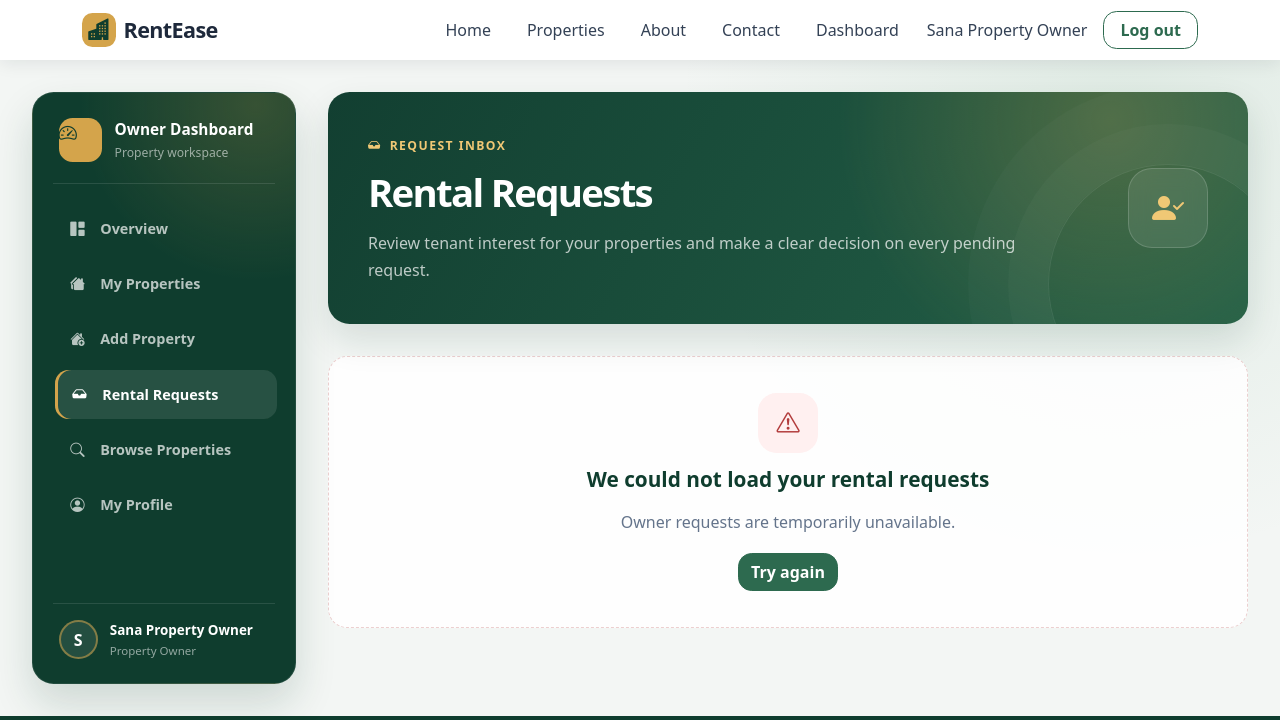
it: Owner rental requests page › shows a load error and retries the owner request query
expect the text "Owner requests are temporarily unavailable." is shown: met, box top-left (621, 509), bottom-right (955, 536)
Step 1. Click the button "Try again" → click(788, 572), box top-left (738, 553), bottom-right (838, 591)
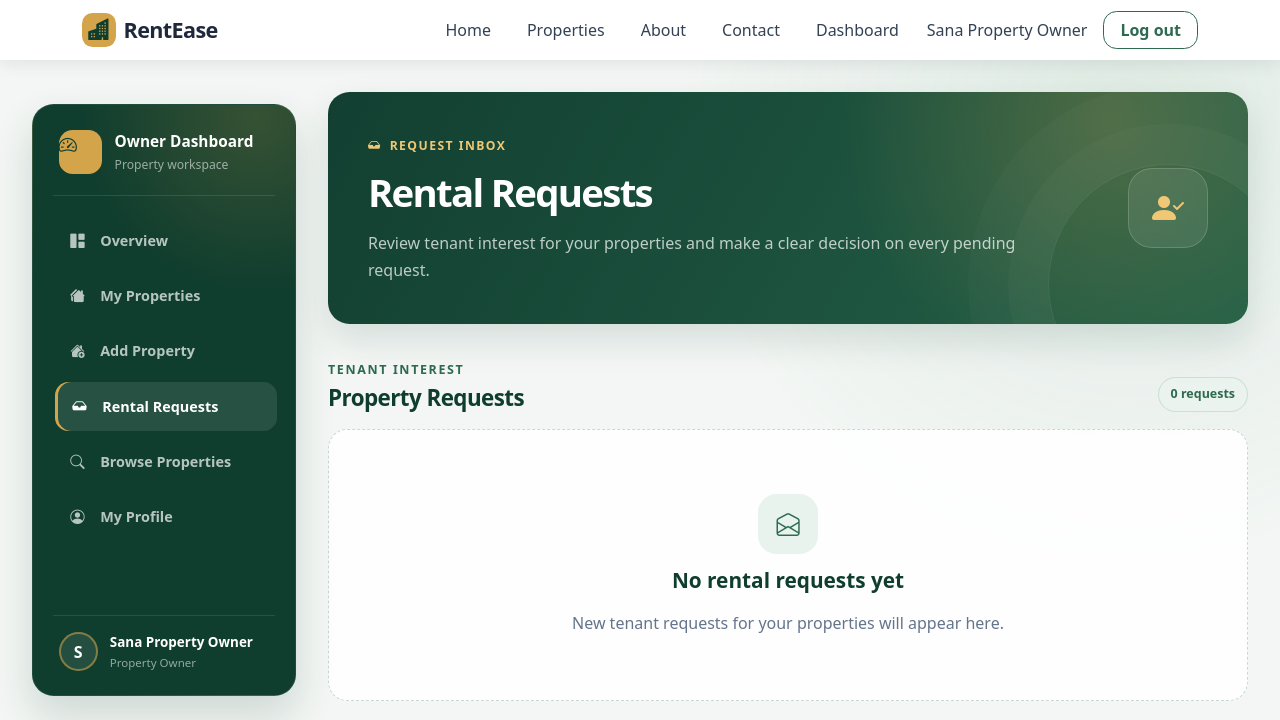
expect the heading "No rental requests yet" is shown: met, box top-left (672, 568), bottom-right (904, 593)
